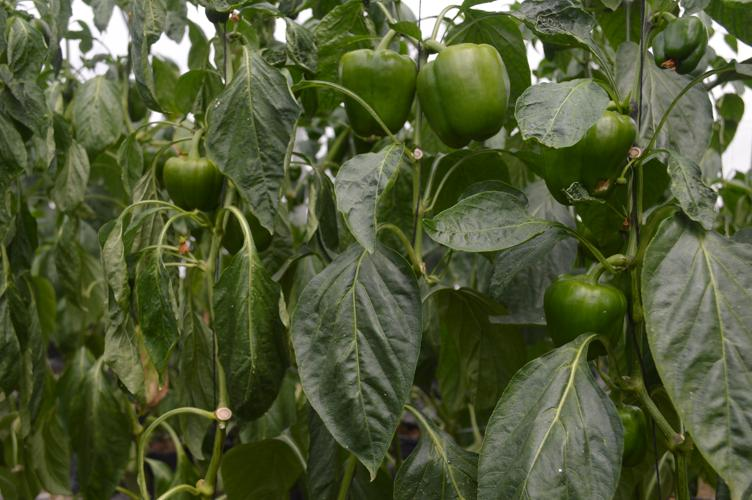BellPepper: (532, 113, 632, 207), (417, 44, 508, 144), (338, 51, 417, 137), (544, 276, 627, 356), (642, 15, 707, 73), (163, 152, 221, 210)
